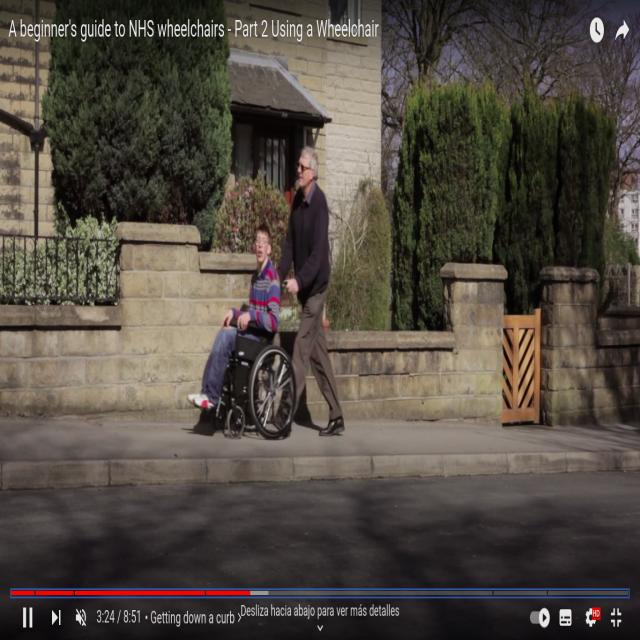wheelchairs: (199, 302, 298, 455)
